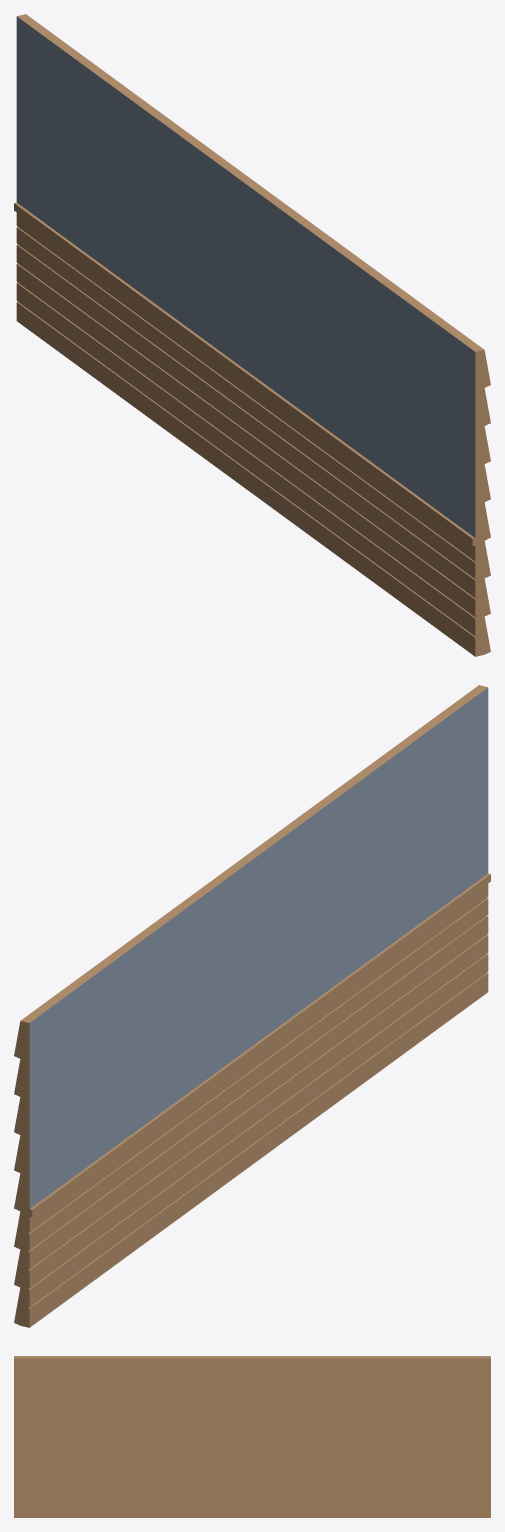
Rendered from Large Wall B.glb.
3 views of the same model, one above another, from view 1: azimuth 30°, elevation 25°; view 2: azimuth 150°, elevation 25°; view 3: azimuth 270°, elevation 25° (orthographic). The views are drawn at different scales.
Visible parts, largest first — view 1: Large Wall B; view 2: Large Wall B; view 3: Large Wall B.
Part boxes in pixels (bbox=[...]): Large Wall B: bbox=[14, 14, 490, 656]; Large Wall B: bbox=[14, 685, 490, 1327]; Large Wall B: bbox=[14, 1356, 490, 1517].
Bounding box in the file's own units: 13.78 × 220 × 600.
